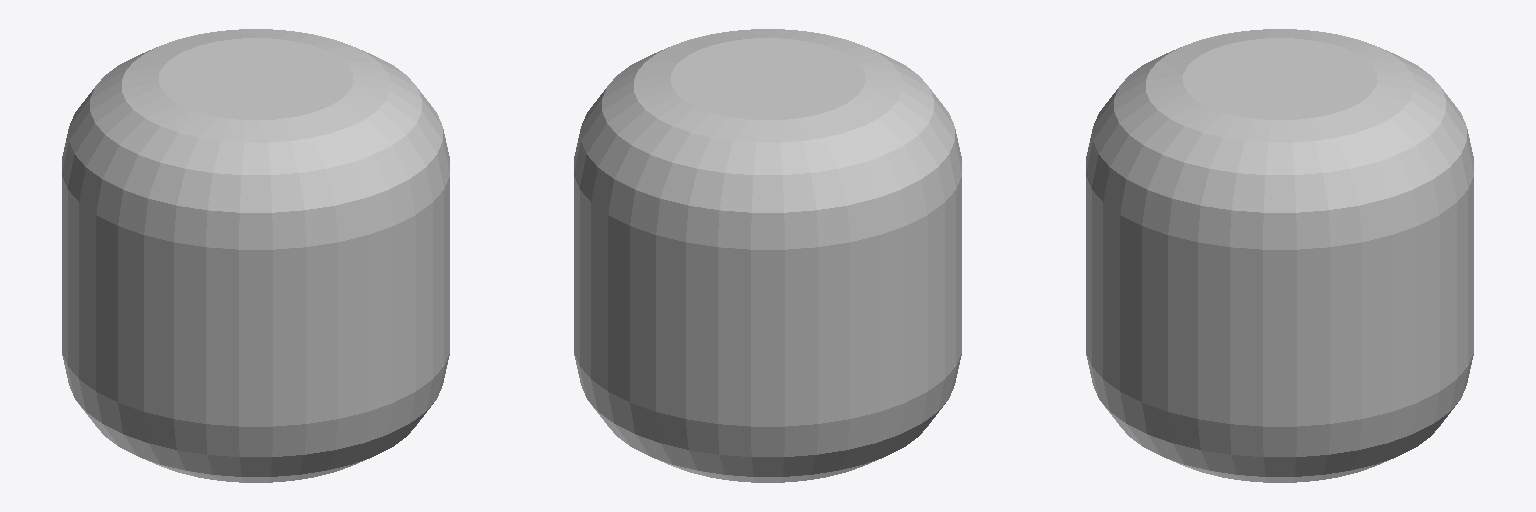
File: head.obj
3 renders of one model, left to right at view 1: azimuth 30°, elevation 25°; view 2: azimuth 150°, elevation 25°; view 3: azimuth 270°, elevation 25°, orthographic.
Visible parts, largest first — view 1: Onett1; view 2: Onett1; view 3: Onett1.
Part boxes in pixels (x1,y1,x2,y2): Onett1: (62, 29, 449, 482); Onett1: (574, 29, 961, 482); Onett1: (1086, 29, 1473, 482).
Size of the model in its own units: 1.2 by 1.2 by 1.2.